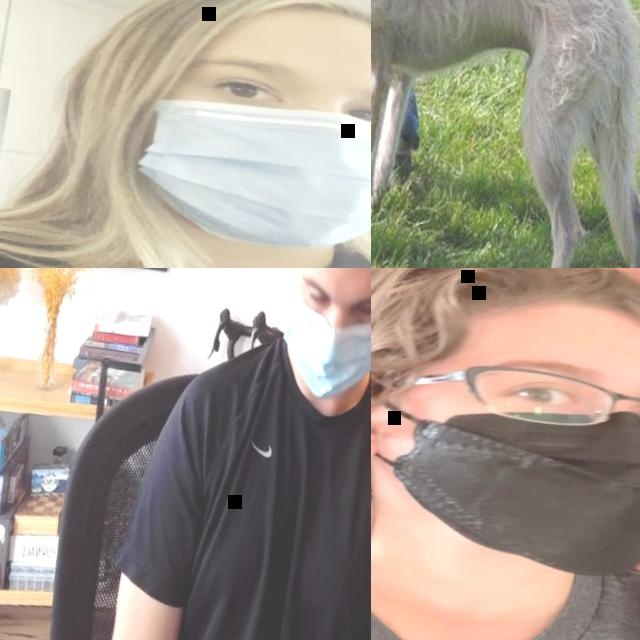Mask: (371, 373, 640, 595), (128, 84, 371, 267), (272, 279, 371, 408)
NO-Hardhat: (371, 268, 640, 382), (138, 0, 371, 96)
NO-Safety Vest: (150, 345, 371, 640), (371, 482, 640, 640), (0, 196, 371, 268)
Person: (93, 268, 371, 640), (371, 268, 640, 640), (0, 0, 371, 268), (371, 0, 493, 268)
